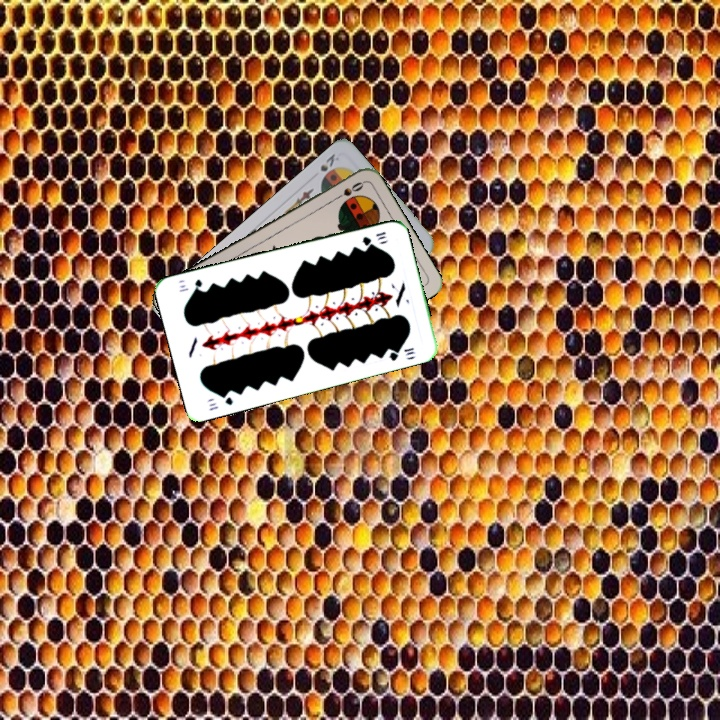G10: (204, 389, 236, 413), (358, 227, 389, 248)
SK: (316, 149, 342, 174)
SO: (329, 178, 366, 204)
